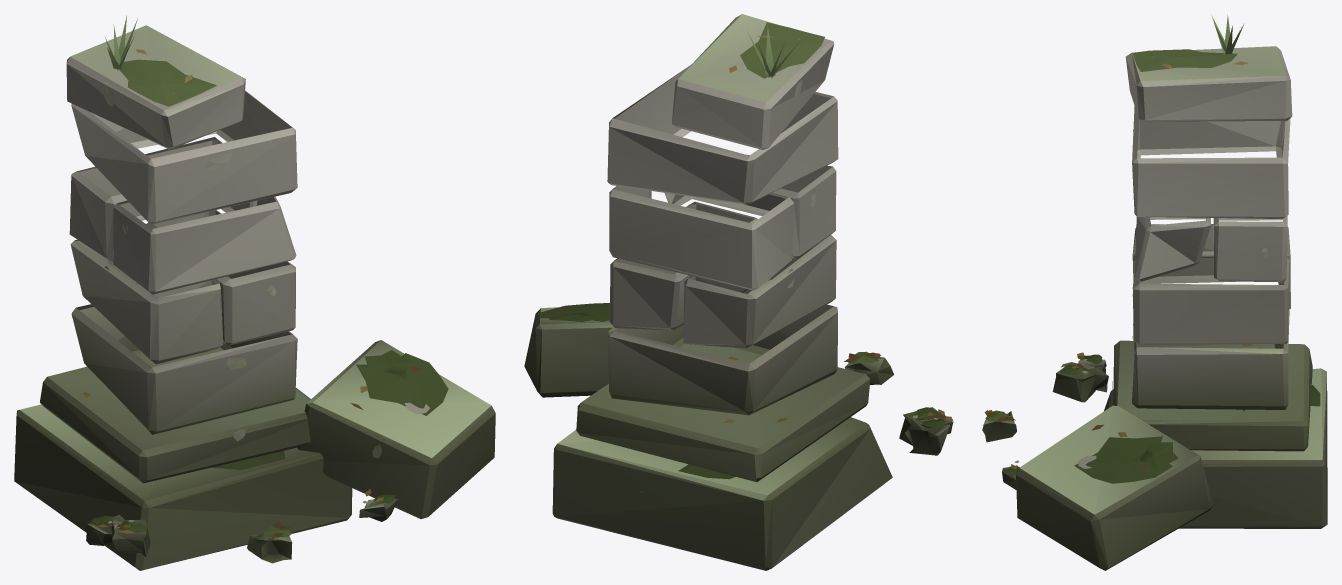
Rendered from pillar_broken.glb.
3 renders of one model, left to right at view 1: azimuth 30°, elevation 25°; view 2: azimuth 150°, elevation 25°; view 3: azimuth 270°, elevation 25°, orthographic. The views are drawn at different scales.
Visible parts, largest first — view 1: pillar_broken; view 2: pillar_broken; view 3: pillar_broken.
Part boxes in pixels (x1,y1,x2,y2): pillar_broken: (14, 15, 495, 570); pillar_broken: (524, 14, 953, 570); pillar_broken: (982, 15, 1327, 570).
Size of the model in its own units: 2.86 by 3.22 by 2.27.
